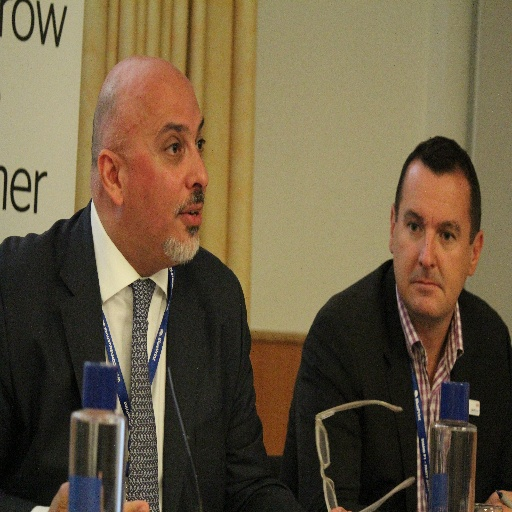hand: (48, 471, 149, 511), (480, 487, 511, 511)
